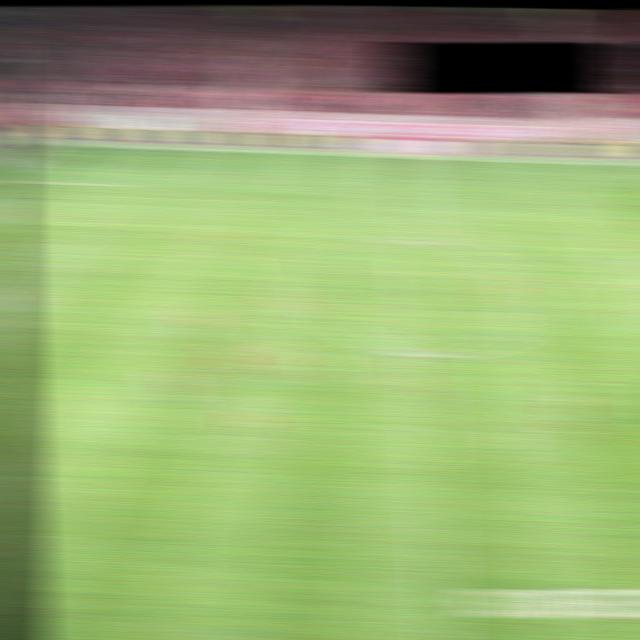bigarea_top_inner: (101, 177, 135, 189)
corner: (30, 137, 63, 148)
halfcircle_bottom: (410, 348, 443, 359)
halfcircle_top: (401, 235, 436, 246)
midline_top_intersection: (395, 149, 429, 162)
top_arc_area_intersection: (57, 224, 91, 237)
